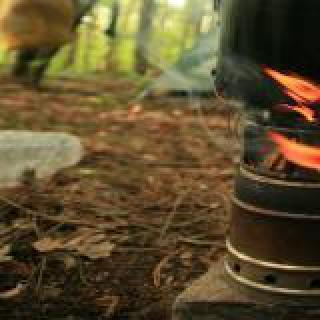fire: (258, 66, 320, 182)
